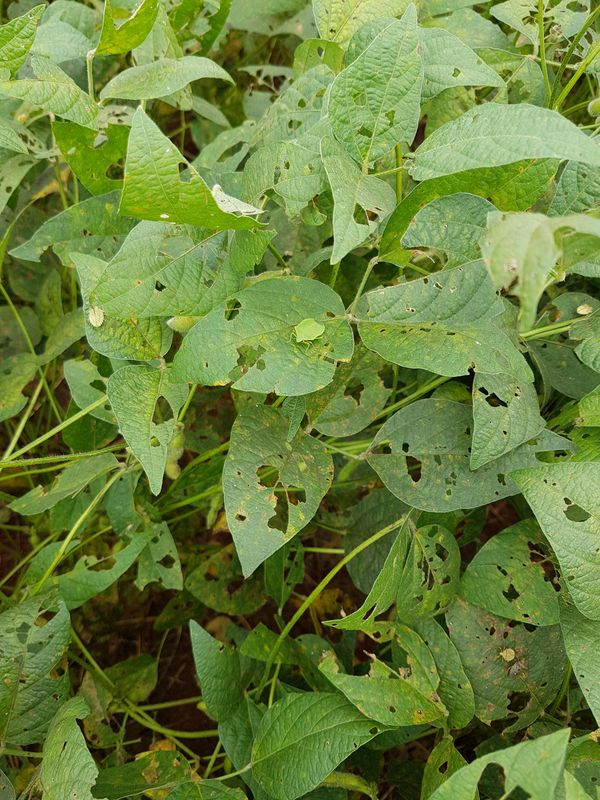Euschistus_heros_adulto: (507, 659, 539, 688)
Euschistus_heros_ninfa: (81, 304, 108, 332), (574, 298, 595, 321), (496, 644, 517, 662)
Nezara_viridula_adulto: (282, 314, 329, 352)
